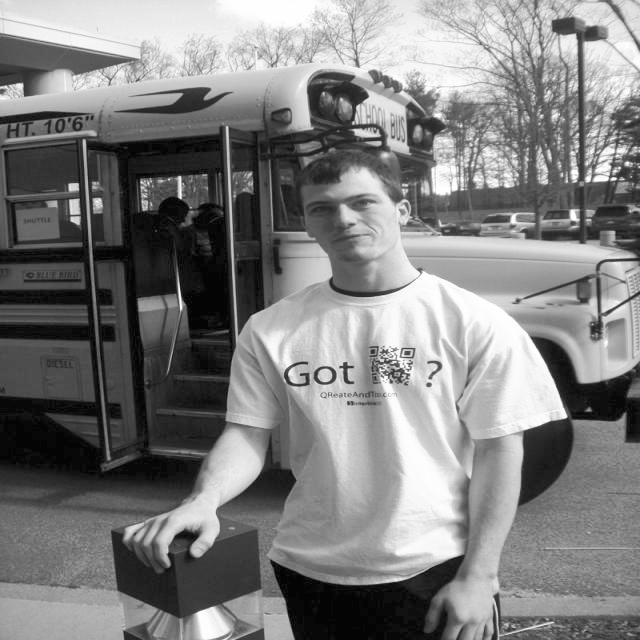qr_code: (369, 346, 415, 385)
